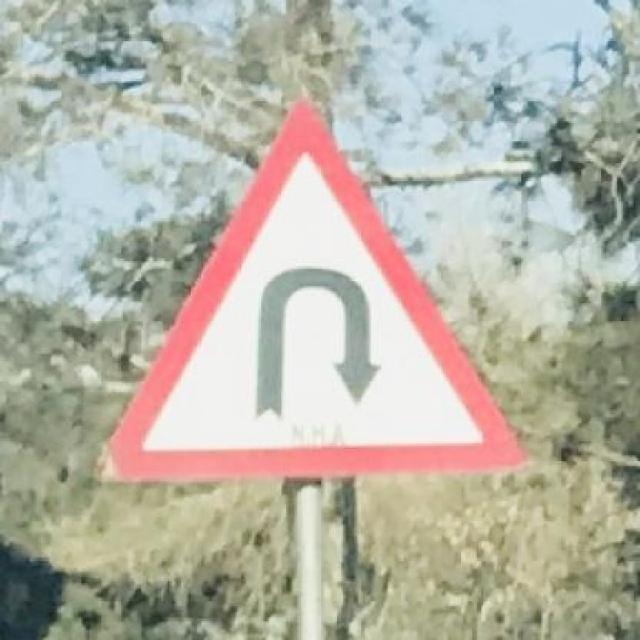u turn: (109, 96, 527, 484)
